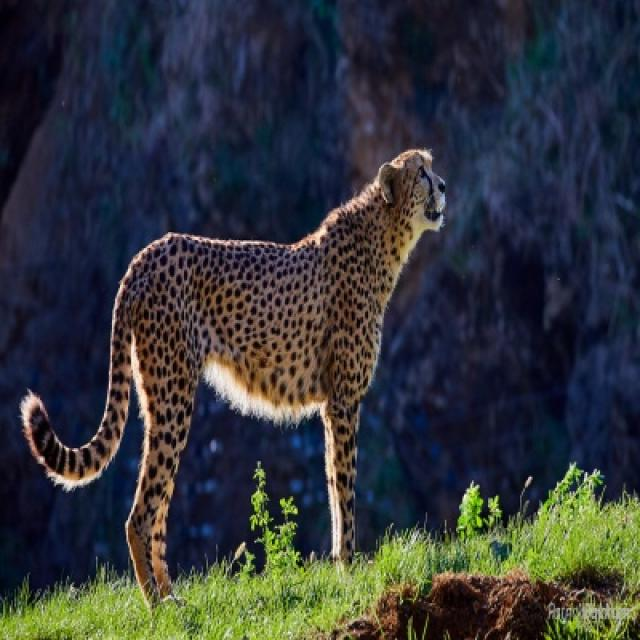Cheetah: (19, 149, 448, 611)
